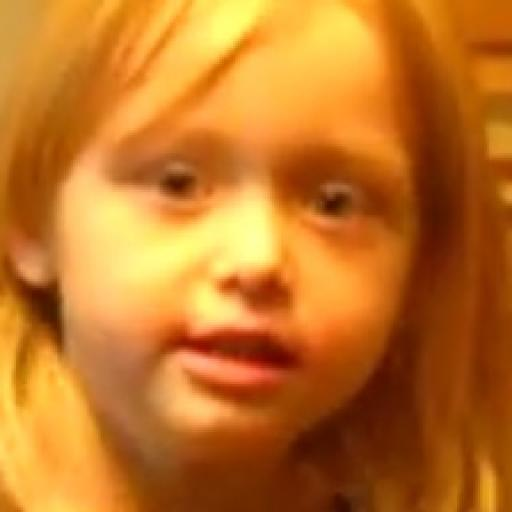Autism: (31, 0, 459, 512)
